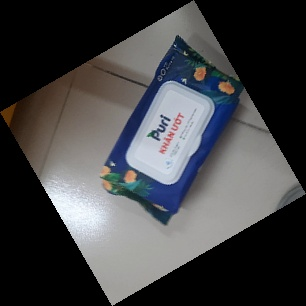Puri Xanh: (99, 35, 245, 226)
